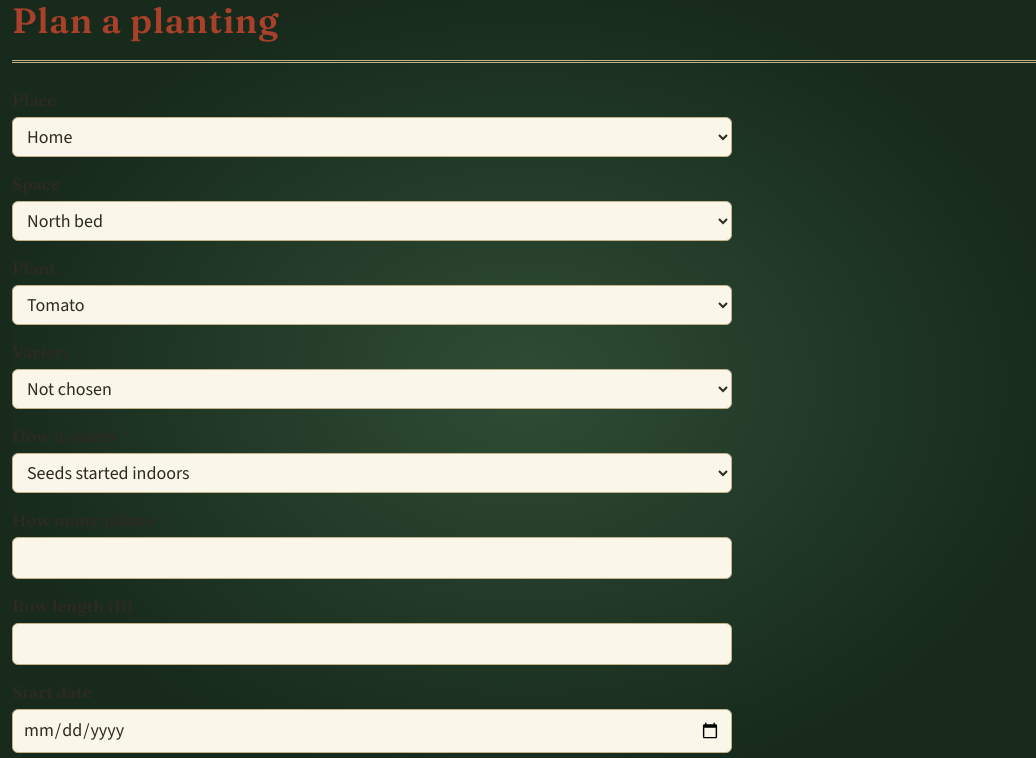
Test case: plan a planting › the preview lists the tasks the planting will make
Type "2027-02-01" into the date field labelled "Start date" at (372, 731), box [12,709,732,753]
(page scrolled)
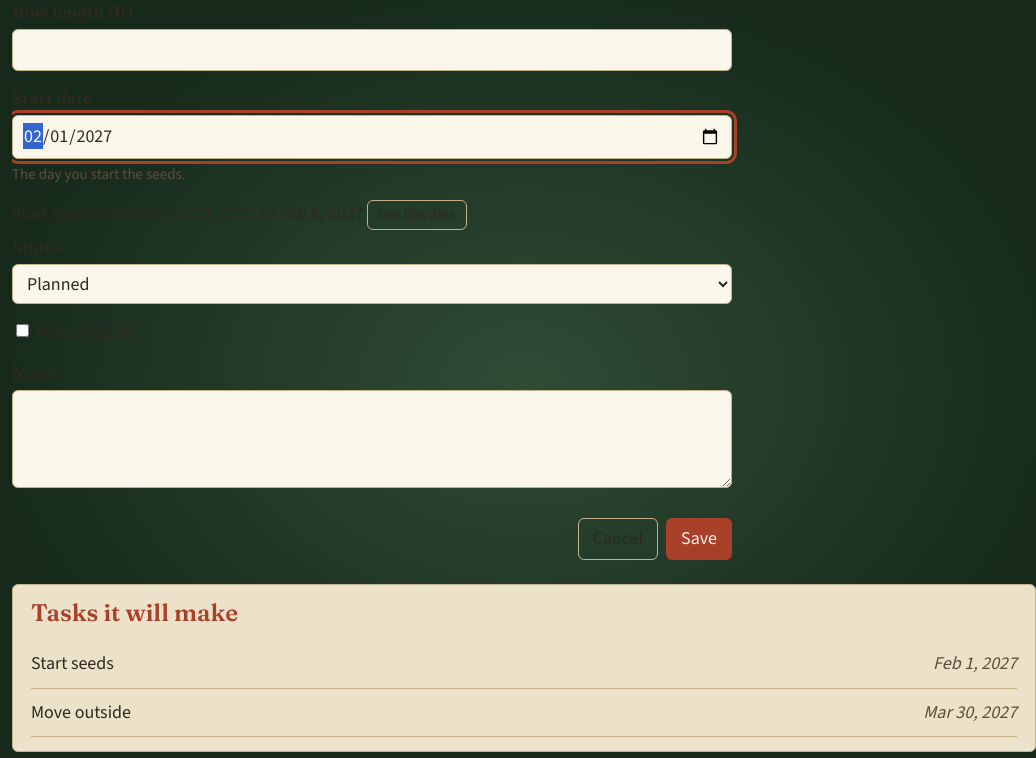
Check: the text "Start seeds" is shown, box [31,651,114,675]
Check: the text "Move outside" is shown, box [31,700,131,724]
